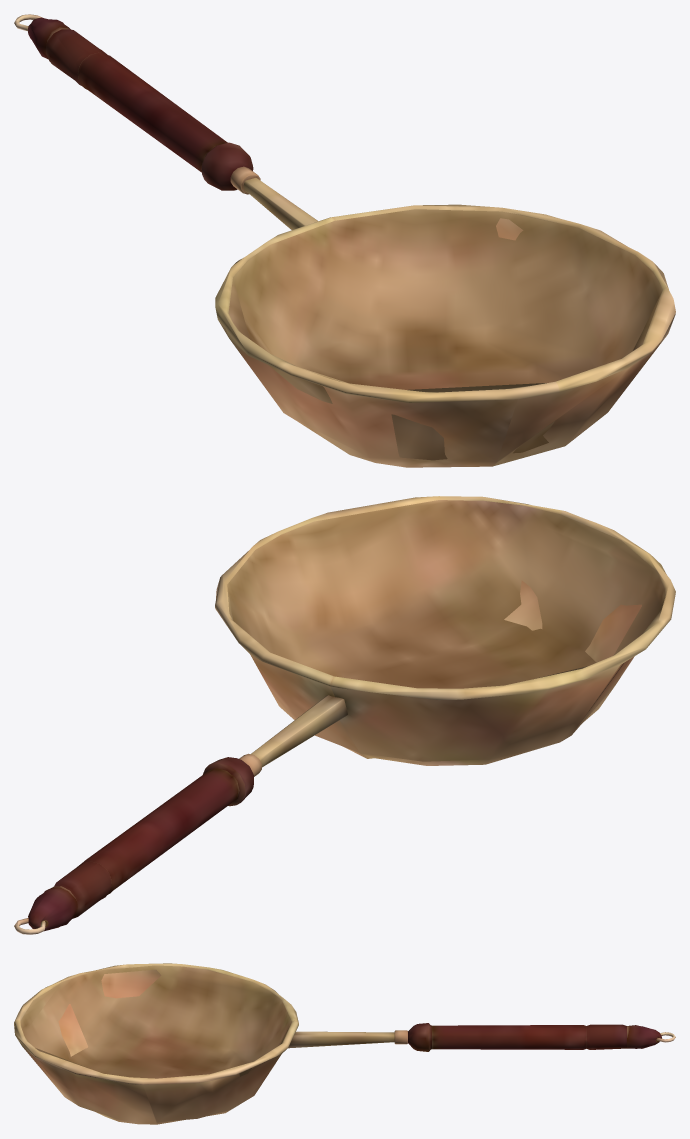
The picture shows the model from 3 angles, top to bottom: view 1: azimuth 30°, elevation 25°; view 2: azimuth 150°, elevation 25°; view 3: azimuth 270°, elevation 25°; orthographic projection. The views are drawn at different scales.
Visible parts, largest first — view 1: brass_pan_01; view 2: brass_pan_01; view 3: brass_pan_01.
Boxes of the visible parts, <box> form: brass_pan_01: <box>14,14,675,467</box>; brass_pan_01: <box>14,496,675,934</box>; brass_pan_01: <box>14,963,675,1124</box>.
Size of the model in its own units: 0.1909 by 0.0517 by 0.4496.
Materials: 1 (1 with a texture image).
